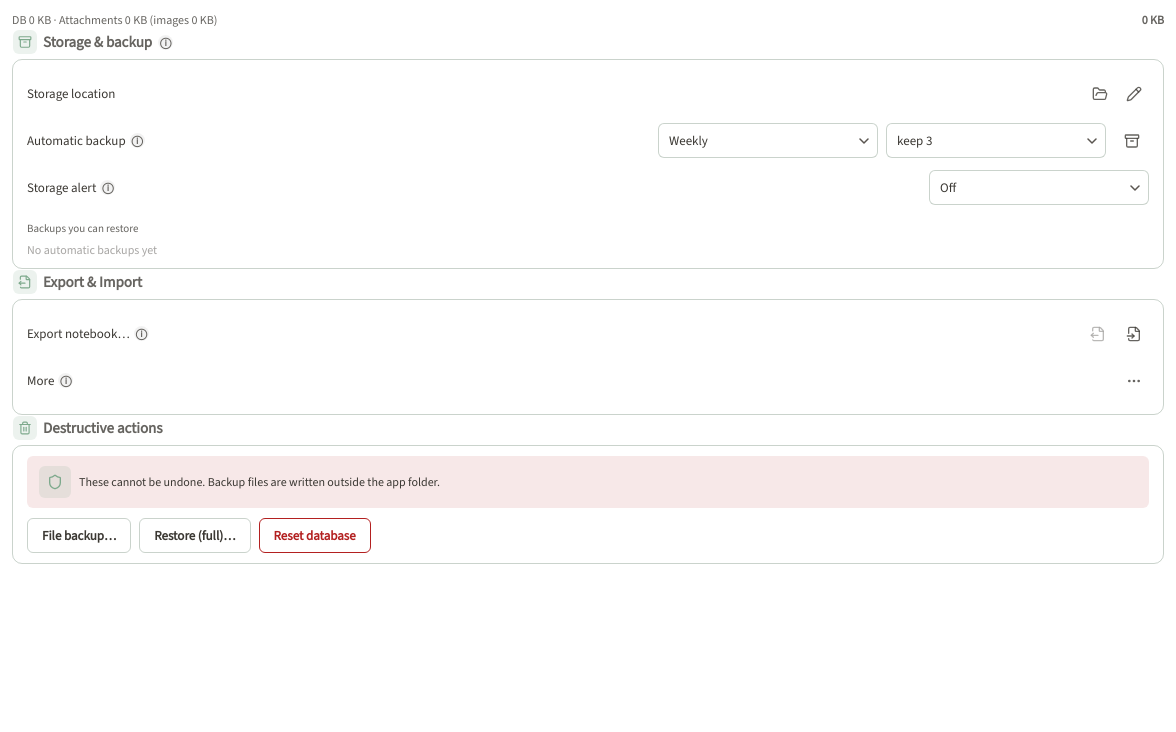
Test: DataManagementSection — 위험 작업 전용 페이지 (PLAN-2026-09-12 D7) › 백업이 도는 동안 두 번째 클릭은 무시되고 다른 위험 단추도 잠긴다
Click the button with test id "settings-file-backup" at (79, 536), box [27,518,131,553]
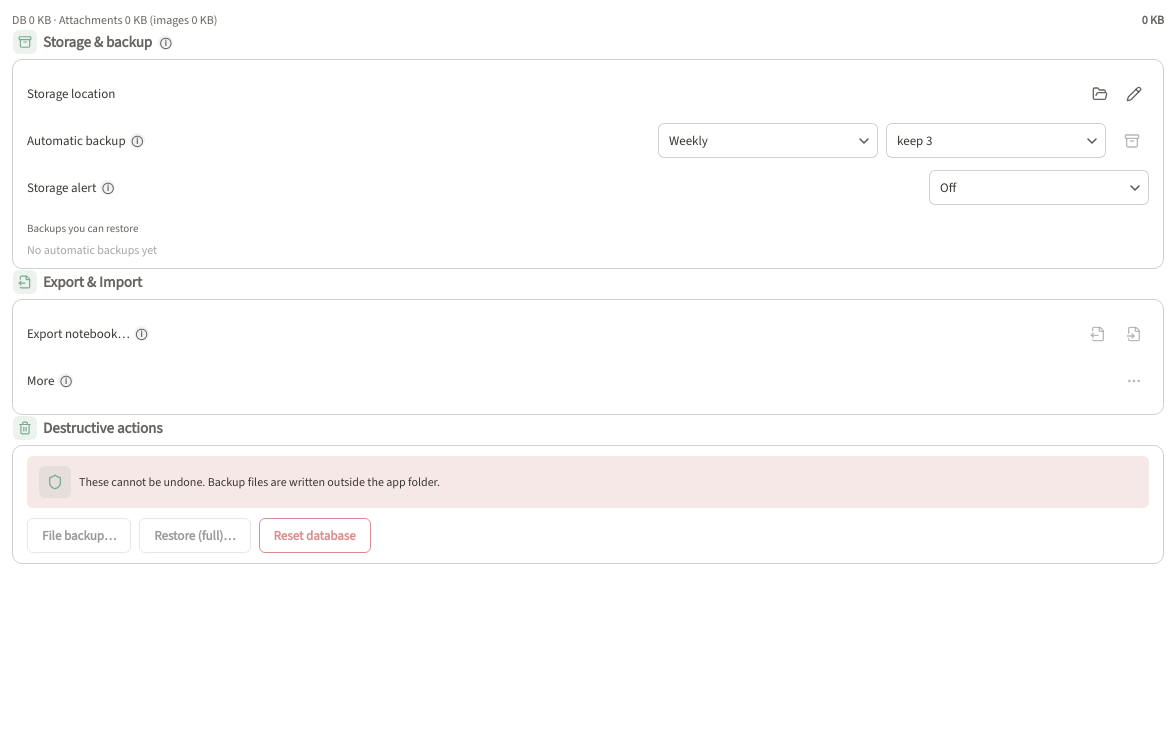
Now the button with test id "settings-file-backup" is disabled
Now the button with test id "settings-reset-db" is disabled, box [258,518,371,553]
Click the button with test id "settings-file-backup" at (79, 536), box [27,518,131,553]
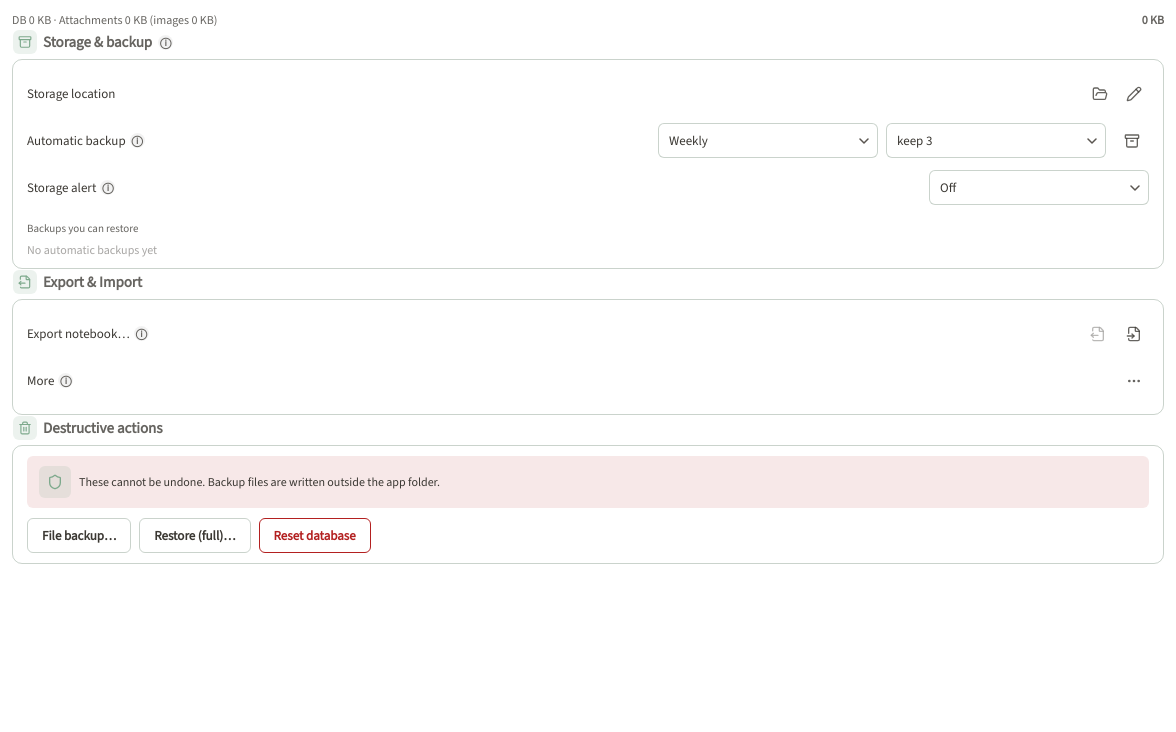
Now the button with test id "settings-file-backup" is enabled, box [27,518,131,553]
